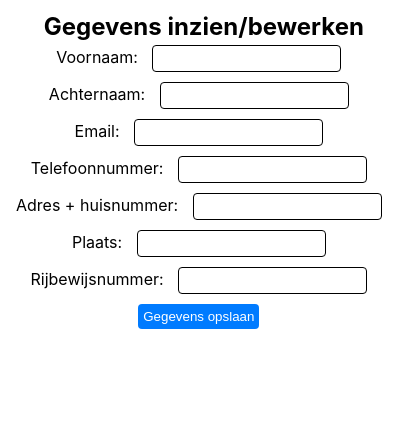
toont foutmelding bij ongeldige naam
Click the button "Gegevens opslaan" at (199, 316), box left=138, top=304, right=259, bottom=329
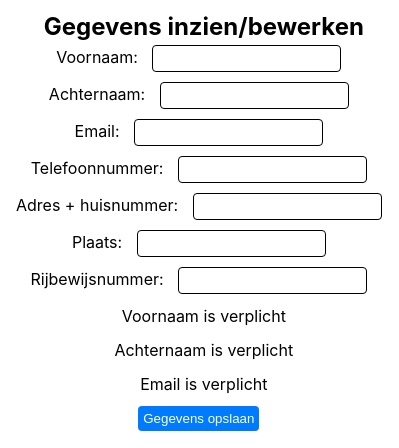
Expected: the text "Voornaam is verplicht" is shown, left=122, top=304, right=286, bottom=328
